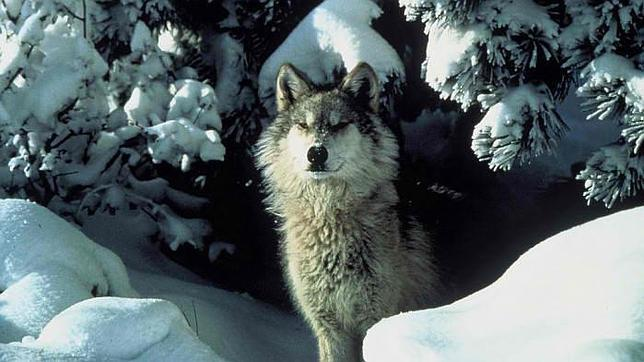Lobo: (253, 54, 422, 333)
